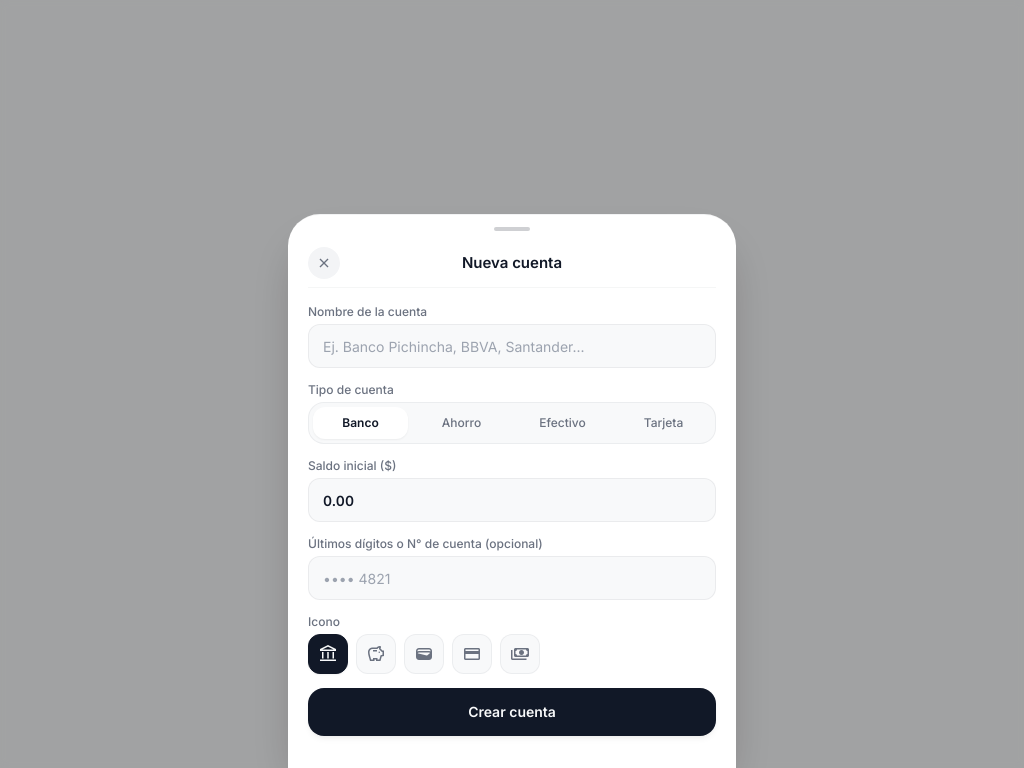
Test: AccountModal › valida la meta de ahorro
This screenshot has width=1024, height=768.
Click the button "Ahorro" at (462, 423), box [414,407,509,439]
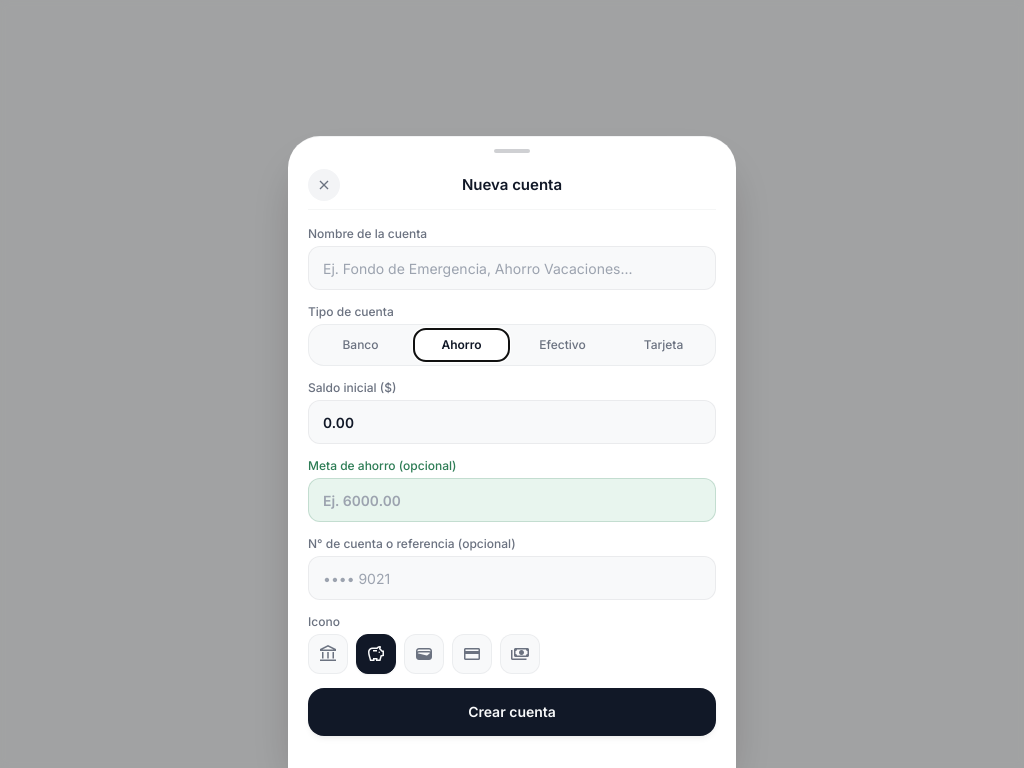
Type "Fondo" into the field with placeholder "Ej. Fondo de Emergencia, Ahorro Vacaciones..." at (512, 268), box [308,246,716,290]
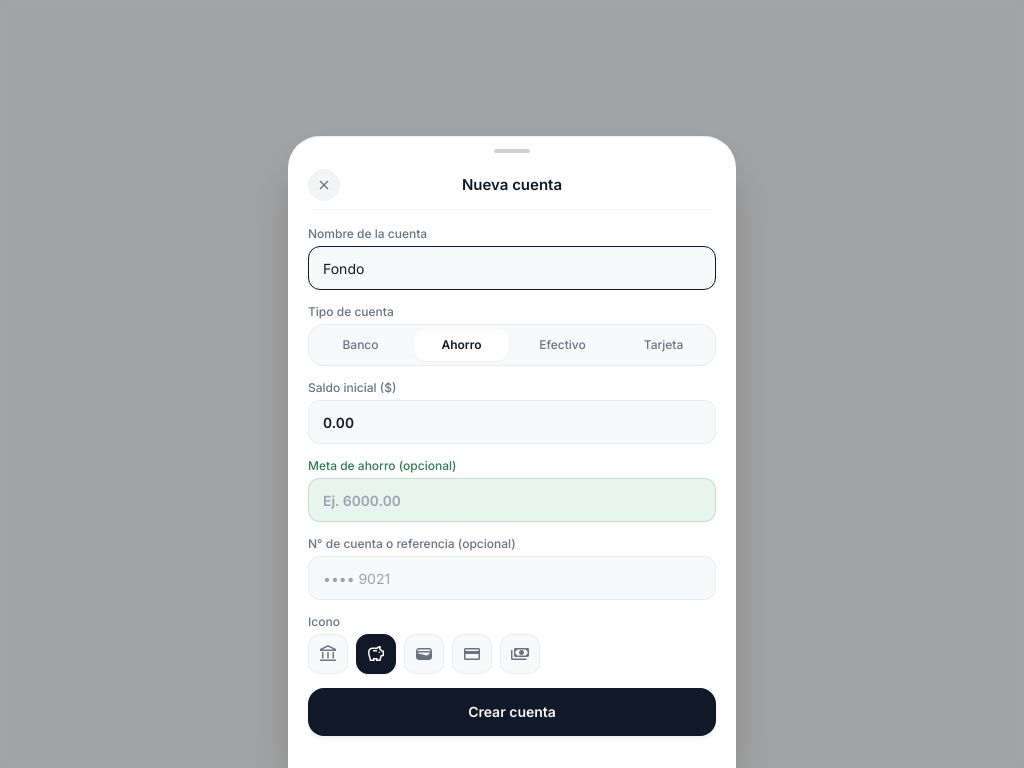
Type "-5" into the number field with placeholder "Ej. 6000.00" at (512, 500), box [308,478,716,522]
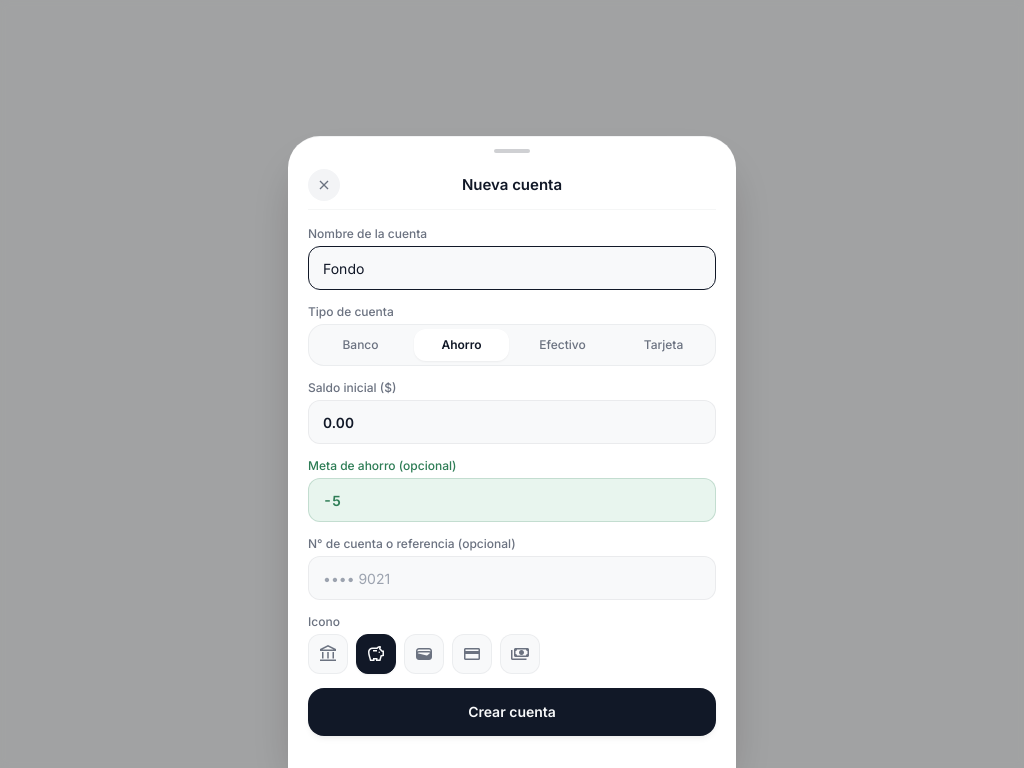
Submit the form named "Crear cuenta", box [308,222,716,736]
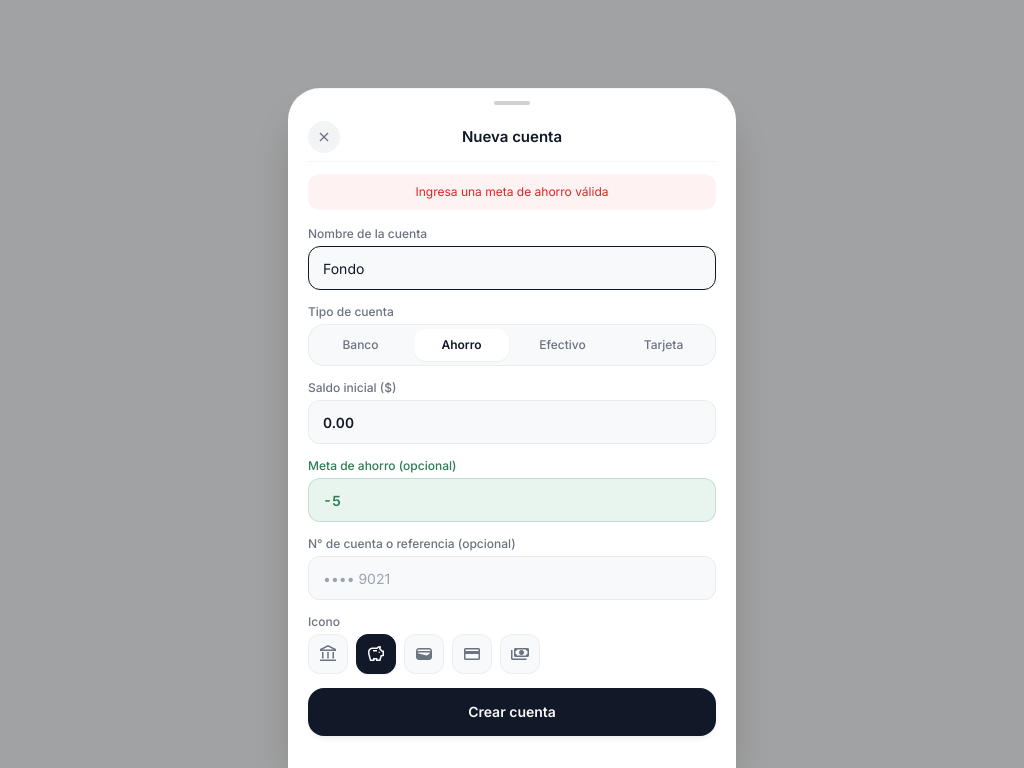
Check: the text "Ingresa una meta de ahorro válida" is shown, box [308,174,716,210]
